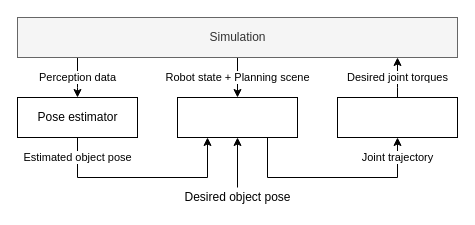
This 475x225 diagram has some shape labels left out. The shapes that lost their labels are listed below. From the top down, each one's centre as x and y in pixels, then its label:
At (237,117): "Planner".
At (397,117): "Controllers".
